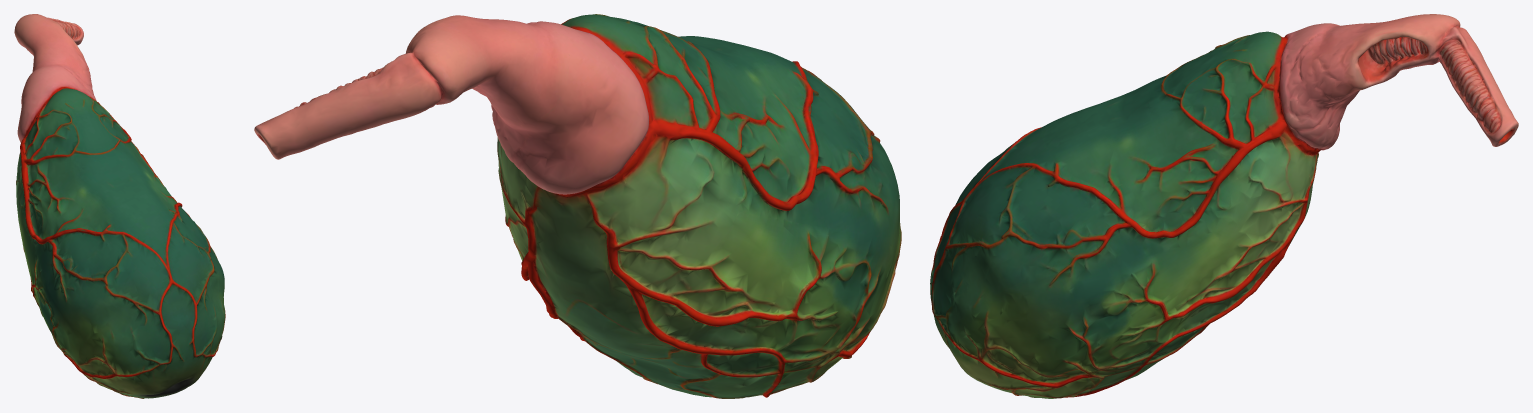
Rendered from gallbladder.glb.
3 views of the same model, side by side, from view 1: azimuth 30°, elevation 25°; view 2: azimuth 150°, elevation 25°; view 3: azimuth 270°, elevation 25° (orthographic). The views are drawn at different scales.
Visible parts, largest first — view 1: tripo_node_9347ea8f-f742-4df5-baca-6272c673a073; view 2: tripo_node_9347ea8f-f742-4df5-baca-6272c673a073; view 3: tripo_node_9347ea8f-f742-4df5-baca-6272c673a073.
Boxes of the visible parts, <box> form: tripo_node_9347ea8f-f742-4df5-baca-6272c673a073: <box>14,14,225,398</box>; tripo_node_9347ea8f-f742-4df5-baca-6272c673a073: <box>254,14,901,398</box>; tripo_node_9347ea8f-f742-4df5-baca-6272c673a073: <box>930,14,1518,398</box>.
Size of the model in its own units: 0.4994 by 0.734 by 1.
1 material, 1 textured.
